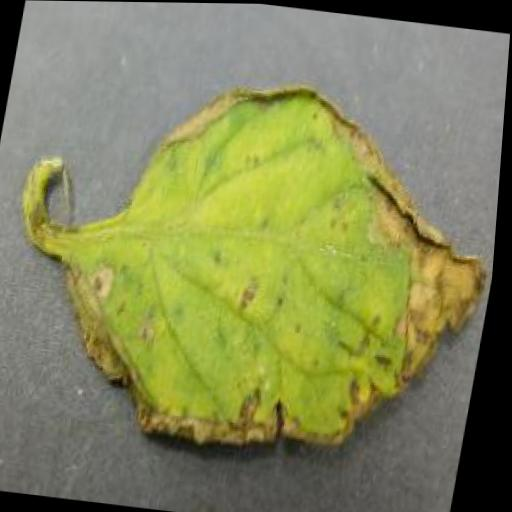Bacterial Spot: (33, 52, 509, 486)
